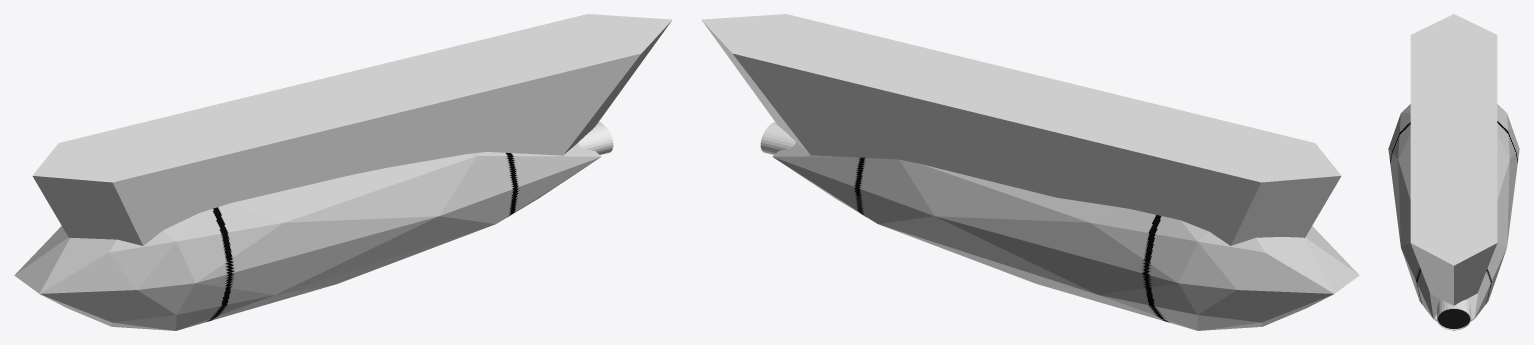
Rendered from f35bgp1.glb.
The picture shows the model from 3 angles, left to right: view 1: azimuth 30°, elevation 25°; view 2: azimuth 150°, elevation 25°; view 3: azimuth 270°, elevation 25°; orthographic projection. The views are drawn at different scales.
Parts seen in each view (by area): view 1: 円柱.001; view 2: 円柱.001; view 3: 円柱.001.
Boxes of the visible parts, bbox=[...] form: 円柱.001: bbox=[14, 14, 672, 330]; 円柱.001: bbox=[701, 14, 1359, 330]; 円柱.001: bbox=[1388, 14, 1519, 330].
Size of the model in its own units: 3.98 by 1.07 by 0.8686.
4 materials, 1 textured.
